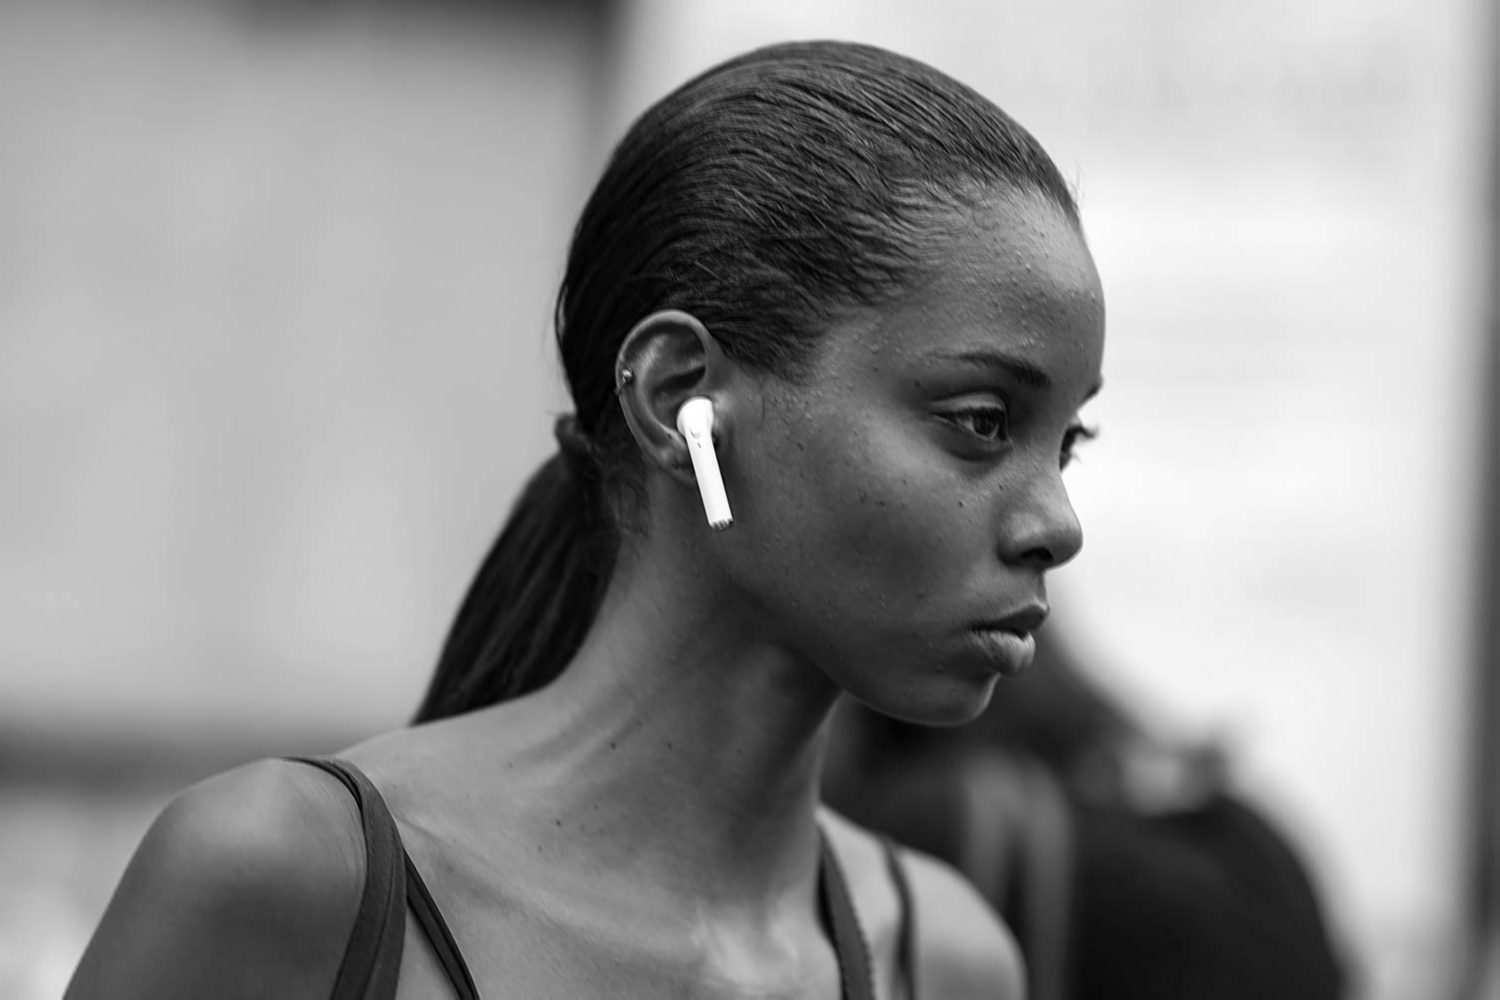earphone: (615, 310, 742, 531)
